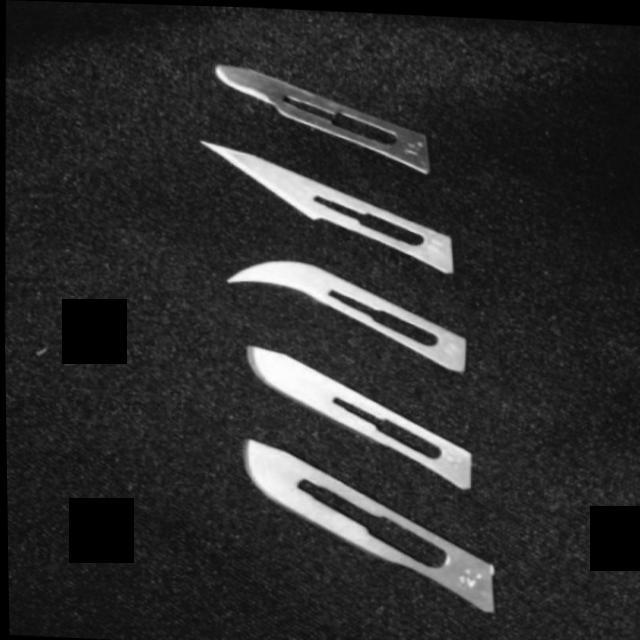Surgical blade: (221, 432, 498, 617), (187, 128, 461, 274), (232, 329, 478, 488), (218, 239, 472, 371), (200, 46, 436, 178)
